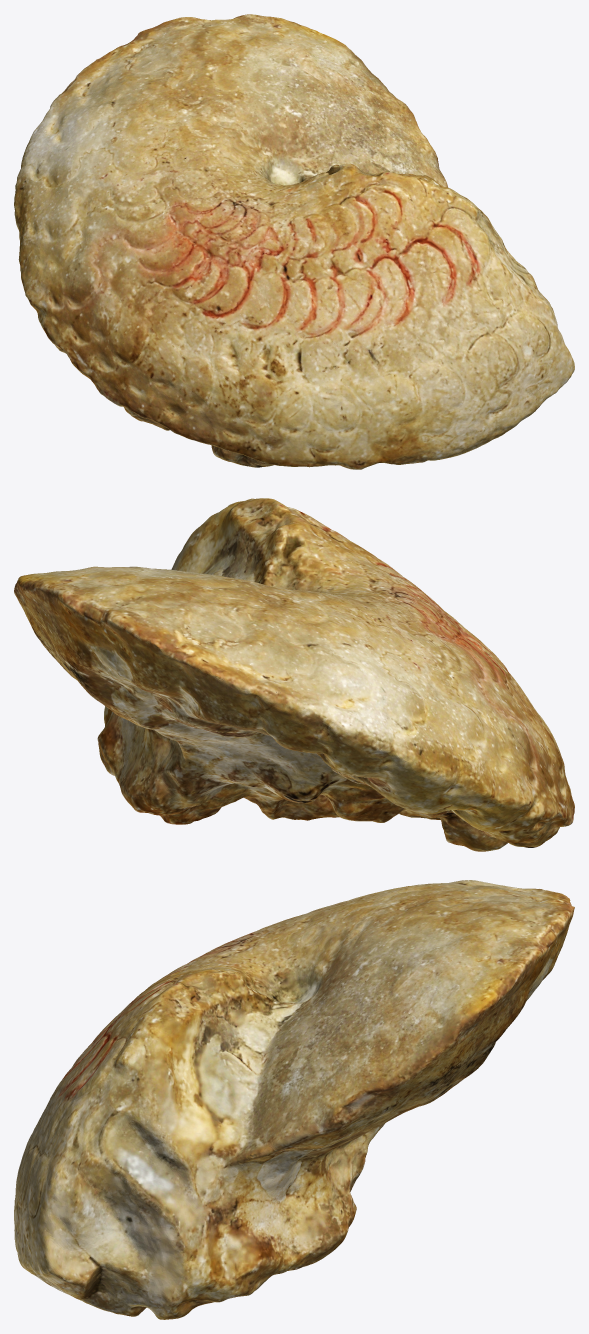
Rendered from MZUR3D-048.glb.
3 renders of one model, top to bottom at view 1: azimuth 30°, elevation 25°; view 2: azimuth 150°, elevation 25°; view 3: azimuth 270°, elevation 25°, orthographic. The views are drawn at different scales.
Visible parts, largest first — view 1: MZUR3D-048; view 2: MZUR3D-048; view 3: MZUR3D-048.
Part boxes in pixels (bbox=[...]): MZUR3D-048: bbox=[14, 14, 574, 469]; MZUR3D-048: bbox=[14, 498, 574, 851]; MZUR3D-048: bbox=[14, 880, 574, 1319].
Size of the model in its own units: 0.9737 by 0.6558 by 0.9942.
1 material, 1 textured.
